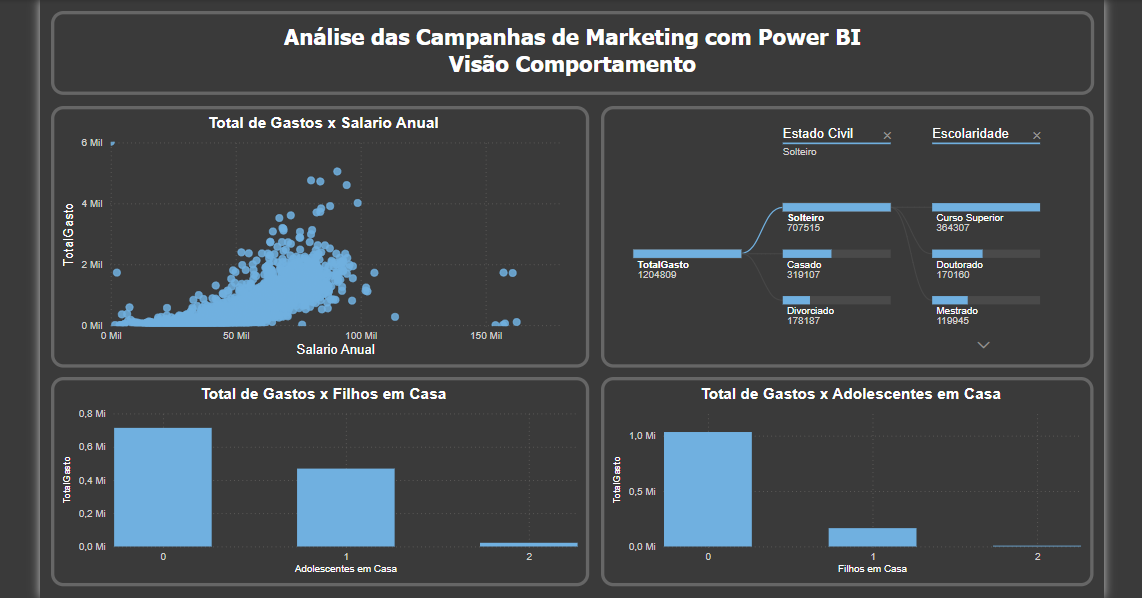

The page's visual inventory and layout, read from the dashboard file:
{"tool":"powerbi","page":{"name":"Visão Comportamento","canvas":[1280,720],"ordinal":1},"visuals":[{"type":"scatterChart","title":"Total de Gastos x Salario Anual","fields":{"X":["DadosMarketing.Salario Anual"],"Y":["DadosMarketing.TotalGasto"]},"box":[12.9,127,648,315.2],"z":0},{"type":"clusteredColumnChart","title":"Total de Gastos x Adolescentes em Casa","fields":{"Y":["DadosMarketing.TotalGasto"],"Category":["DadosMarketing.Filhos em Casa"]},"box":[675.4,453.5,593.4,252.5],"z":1000},{"type":"clusteredColumnChart","title":"Total de Gastos x Filhos em Casa","fields":{"Y":["DadosMarketing.TotalGasto"],"Category":["DadosMarketing.Adolescentes em Casa"]},"box":[12.9,453.5,648,252.5],"z":2000},{"type":"decompositionTreeVisual","fields":{"Analyze":["DadosMarketing.TotalGasto"],"ExplainBy":["DadosMarketing.Estado Civil","DadosMarketing.Escolaridade"]},"box":[675.4,127,593.4,315.2],"z":3000},{"type":"textbox","box":[12.9,12.9,1255.9,101.3],"z":3001}]}

Visuals, with their boxes on the page's 1280x720 design canvas (x1, y1, x2, y2). These are canvas units, not pixel positions in the 1142x598 screenshot, which may show the page scaled, cropped or inside an application window:
"Total de Gastos x Salario Anual" scatterChart: l=13, t=127, r=661, b=442
"Total de Gastos x Adolescentes em Casa" clusteredColumnChart: l=675, t=454, r=1269, b=706
"Total de Gastos x Filhos em Casa" clusteredColumnChart: l=13, t=454, r=661, b=706
decompositionTreeVisual - DadosMarketing.TotalGasto x DadosMarketing.Estado Civil: l=675, t=127, r=1269, b=442
textbox: l=13, t=13, r=1269, b=114
